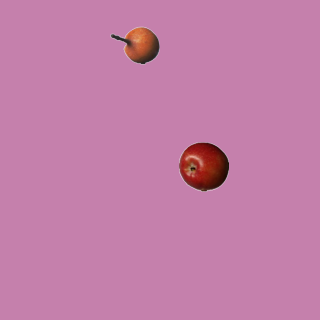Apple Braeburn: (178, 141, 228, 191)
Granadilla: (109, 20, 159, 70)
